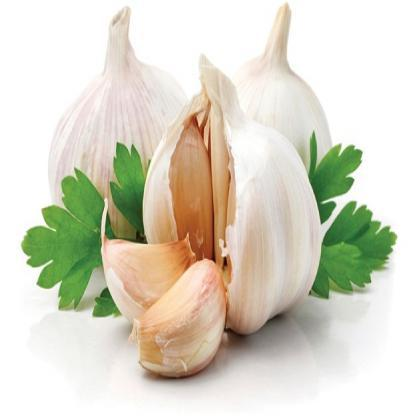garlic: (122, 97, 317, 365)
